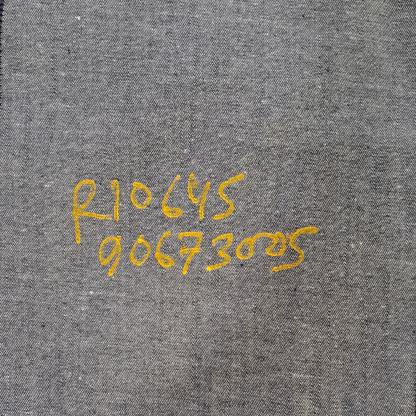spot: (72, 174, 324, 285)
